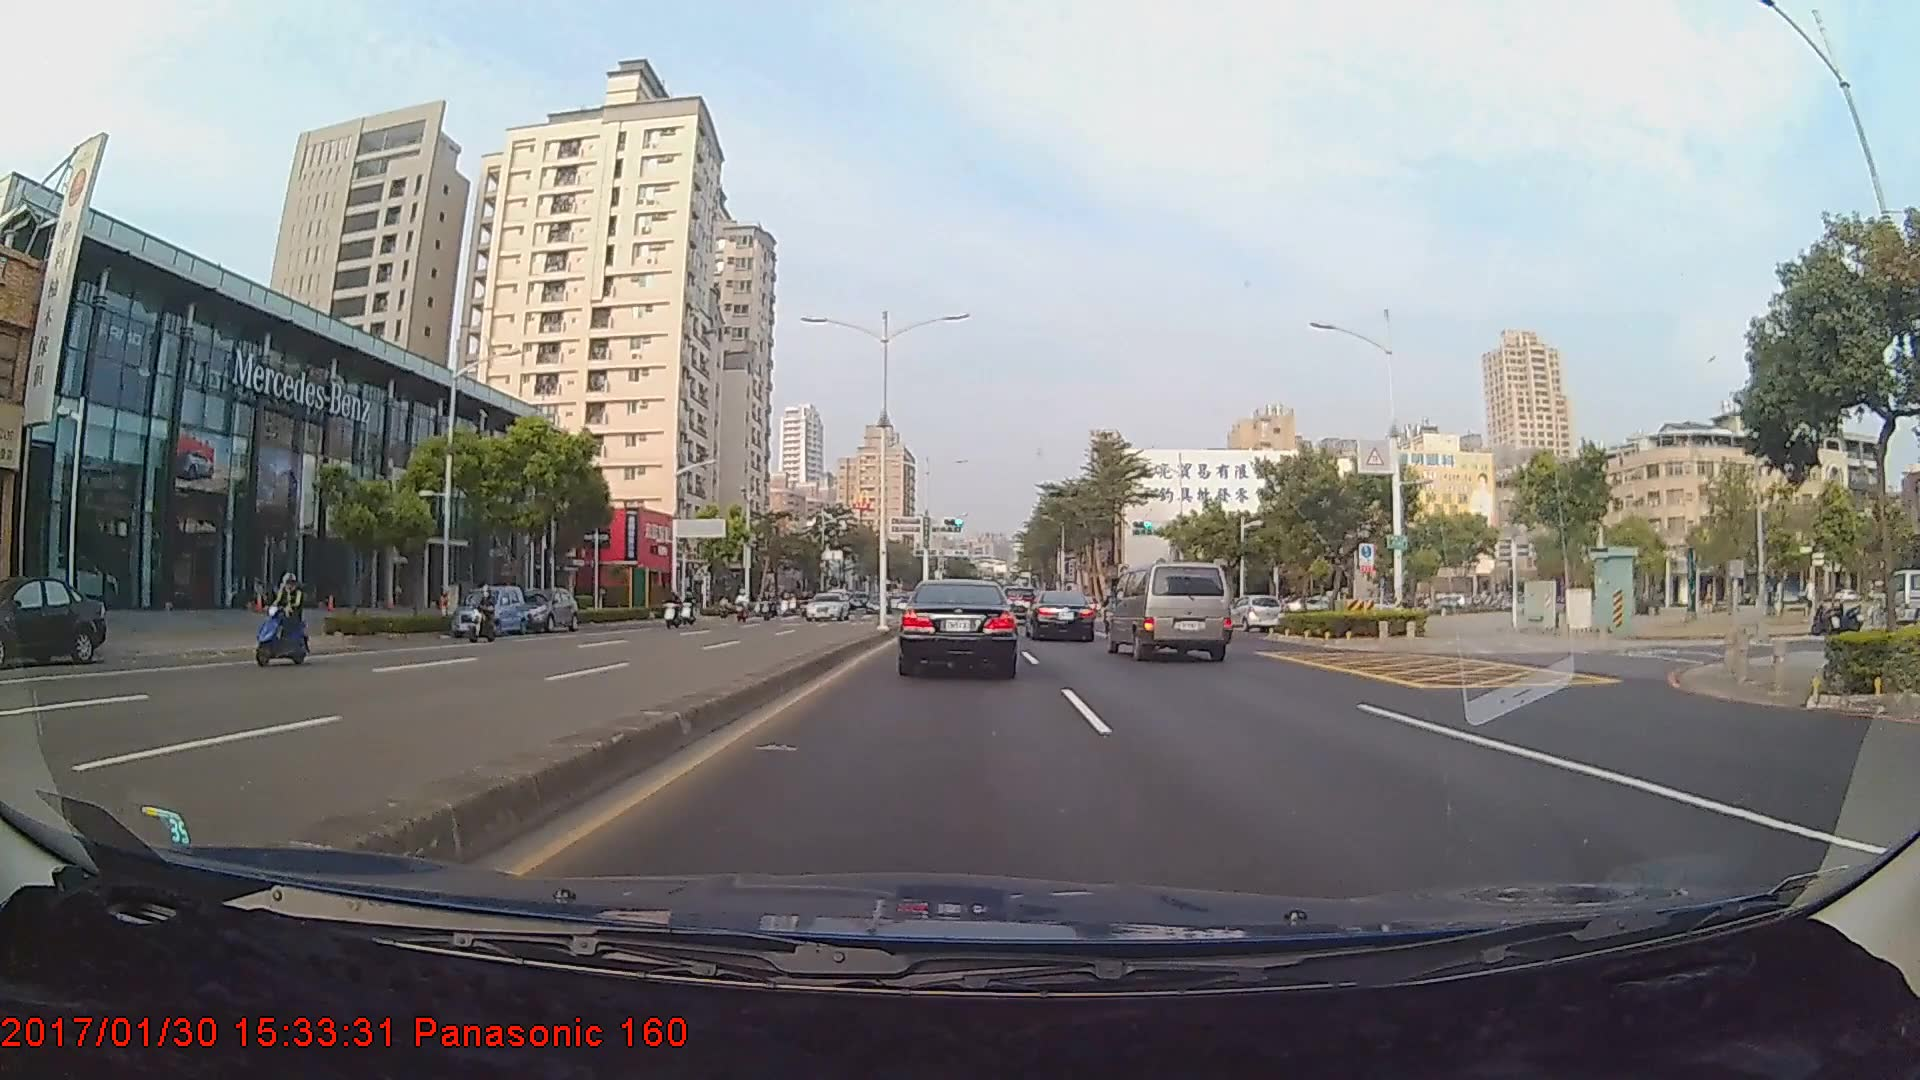pedestrian: (274, 569, 297, 631)
rider: (255, 569, 320, 670), (462, 582, 505, 651)
vehicle: (1108, 560, 1230, 662), (900, 576, 1017, 678), (0, 577, 105, 663), (451, 578, 526, 630), (1026, 588, 1096, 642), (511, 584, 578, 632), (1224, 594, 1284, 631), (803, 591, 850, 619)
